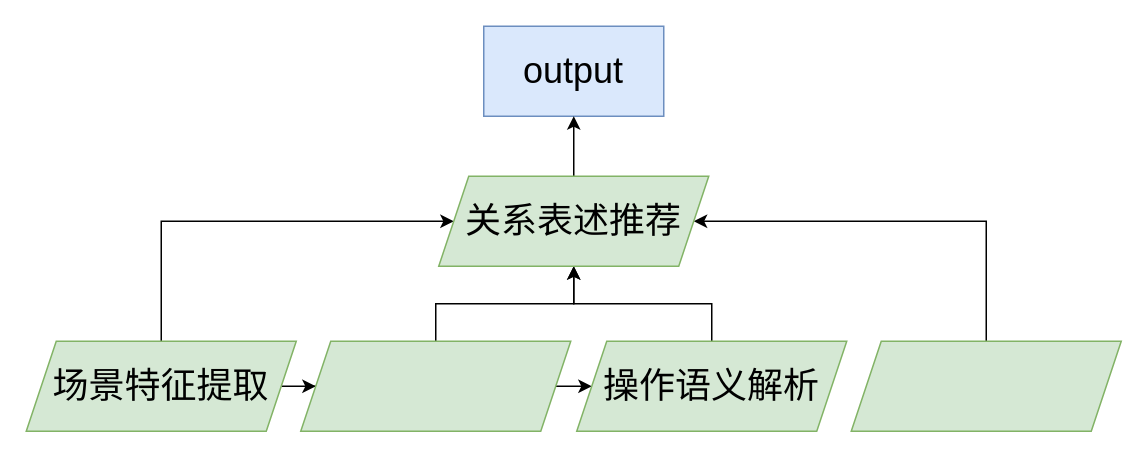
This 1148x458 diagram has some shape labels left out. The shapes that lost their labels are listed below. From the top down, each one's centre as x and y in pixels, then its label:
(435,385): 表单上下文理解
(985,385): 用户画像生成
